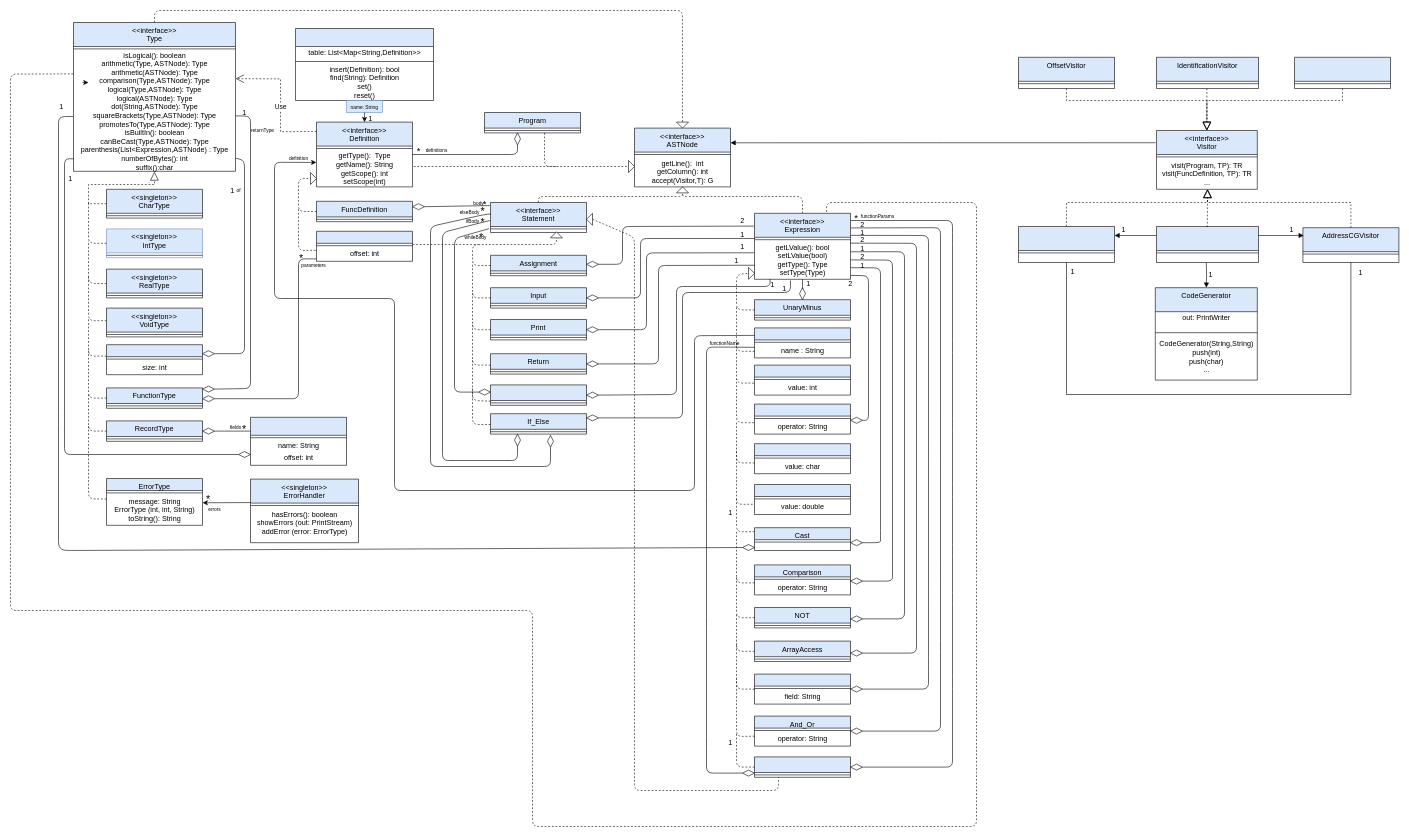
The diagram is 1409 pixels wide and 838 high, and some of its shapes have lost their labels. The shapes that lost their labels are listed below. From the top down, each one's box as (x1, y1, x2, y2) in pixels, then its label:
(295, 28, 434, 100): SymbolTable
(1294, 57, 1390, 88): TypeCheckingVisitor
(316, 231, 412, 261): VarDefinition
(1018, 226, 1114, 262): ValueCGVisitor
(1156, 226, 1258, 262): ExecuteCGVisitor
(106, 344, 202, 375): ArrayType
(754, 327, 850, 358): Variable
(490, 384, 586, 405): WhileLoop
(754, 364, 850, 395): IntLiteral
(754, 404, 850, 434): Arithmetic
(250, 417, 346, 465): RecordField
(754, 443, 850, 474): CharLiteral
(754, 484, 850, 514): RealLiteral
(754, 674, 850, 704): FieldAccess
(754, 756, 850, 777): FunctionInvocation
